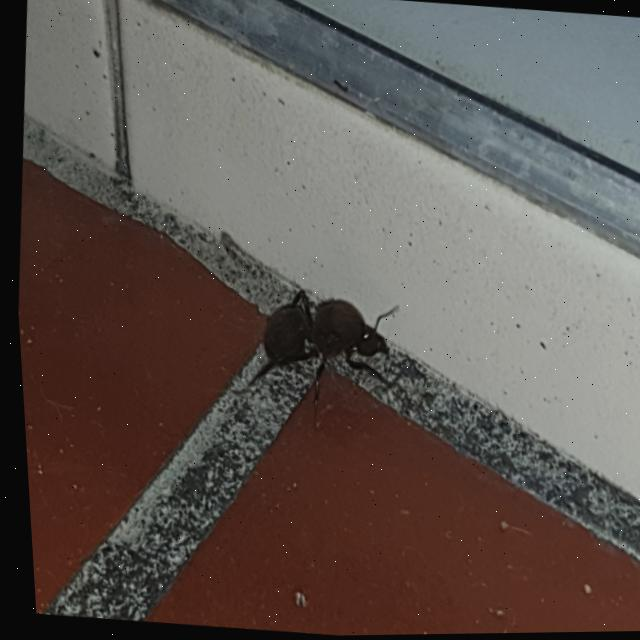Alive-Female-Dealate: (234, 283, 402, 434)
